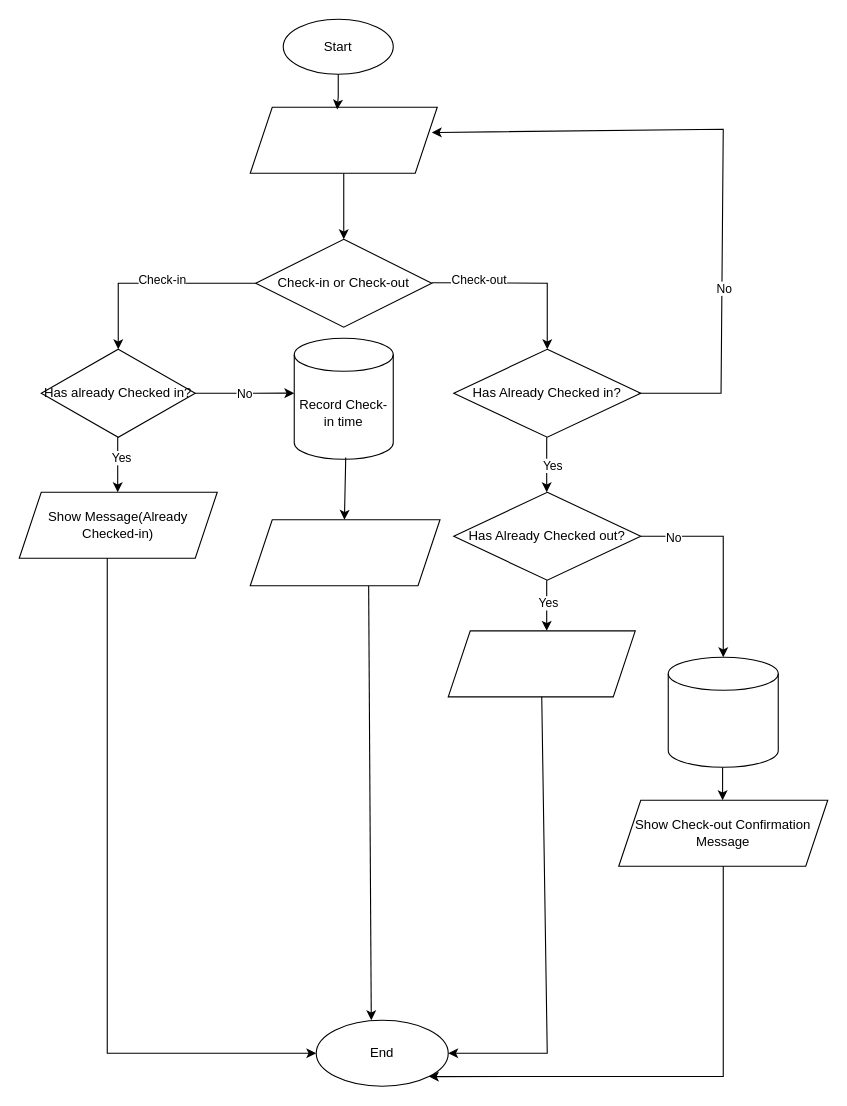
Image size: 847x1106. Some labels were removed from this diagram. The box of each missing label's shape, as (x1, y1, x2, y2) in pixels:
Record Check-out time: (667, 656, 778, 767)
Select Check-in/Check-out: (249, 106, 437, 173)
Show Check-in Confirmation Message: (249, 519, 440, 586)
Show Message(Already Checked-out): (447, 630, 635, 697)
